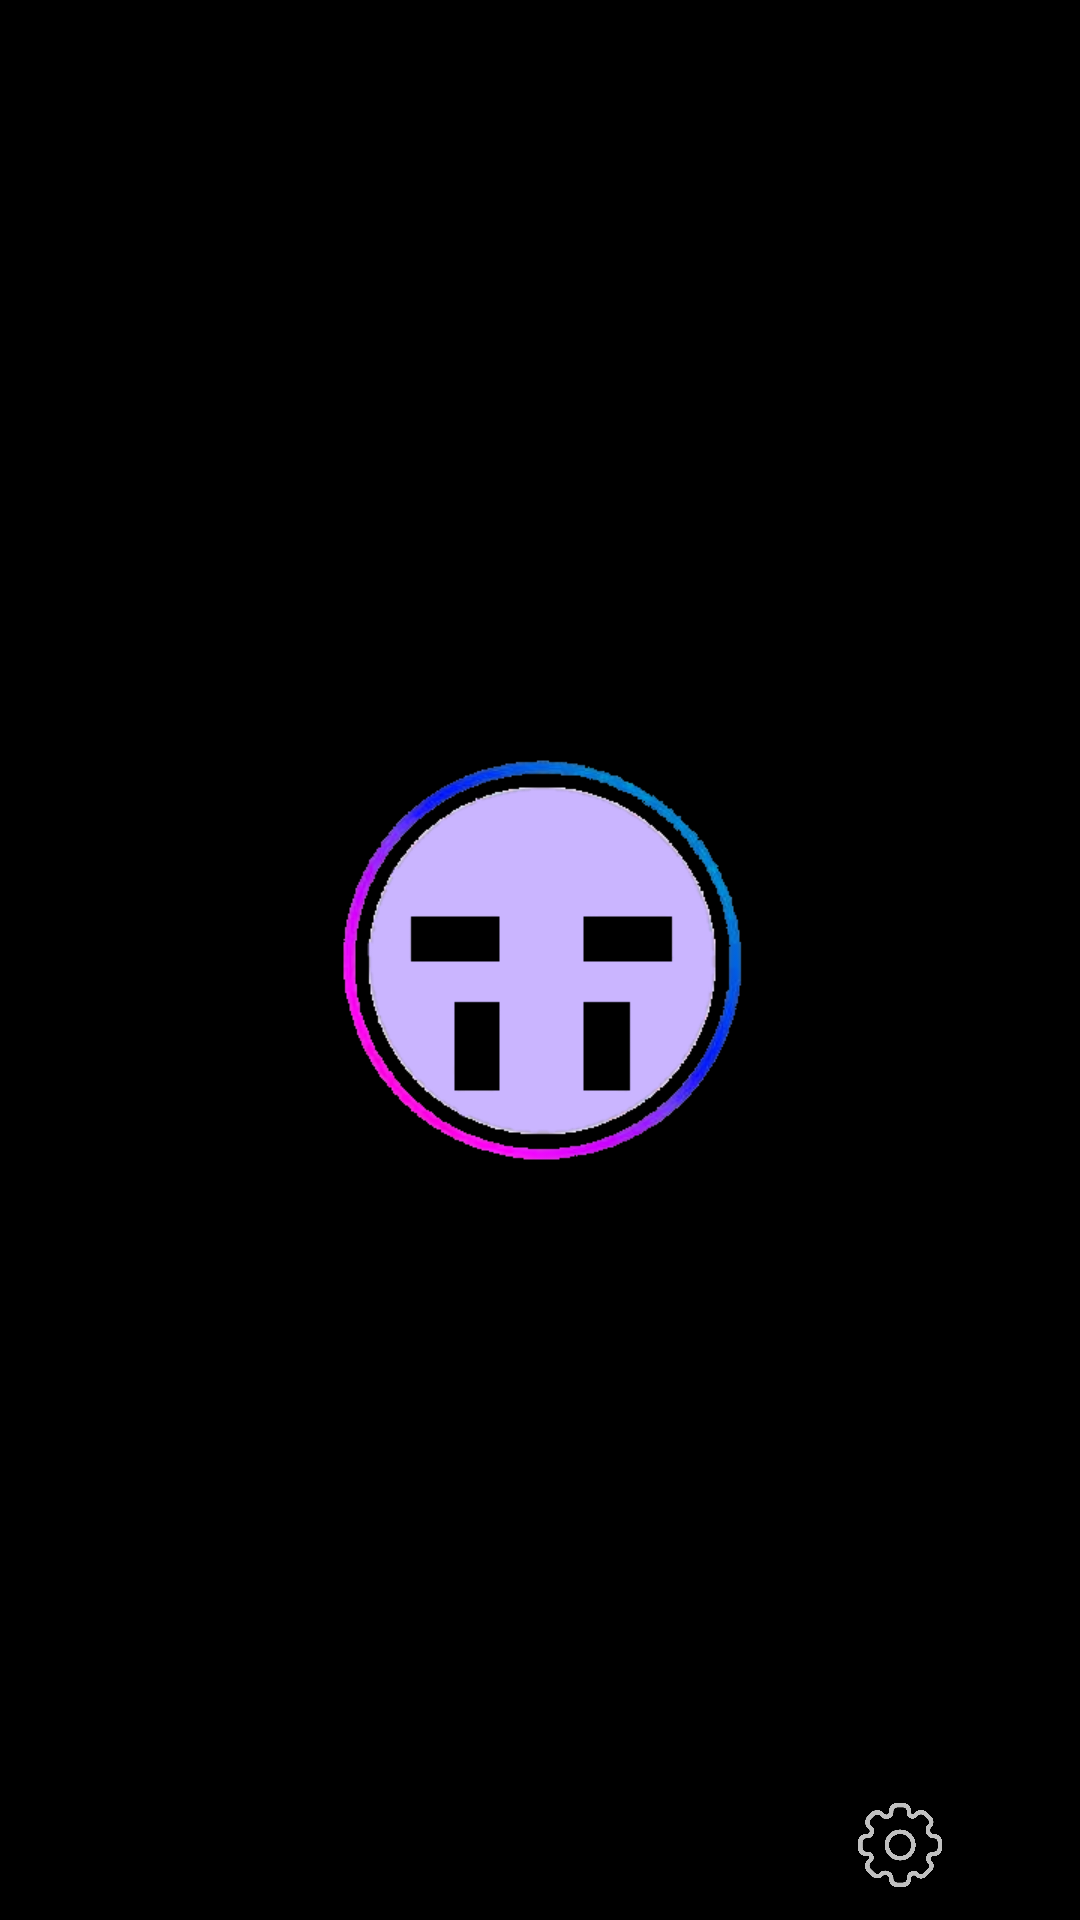

Icons on this 1080px×1920px Android screen, each with the point to tap as [x,y]:
setting: [900,1845]
